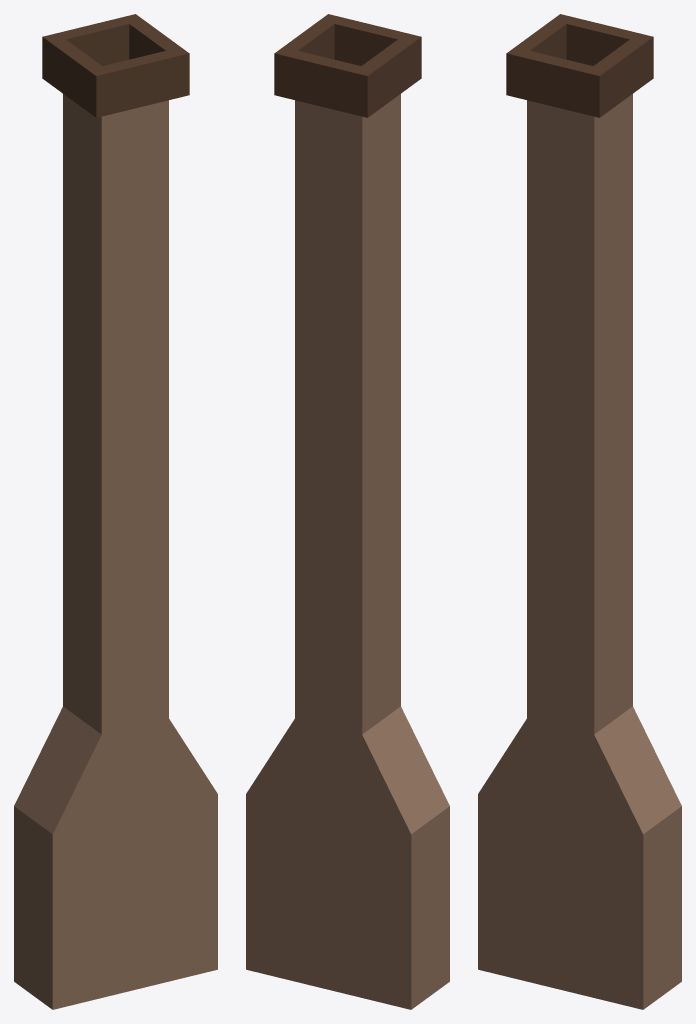
Rendered from Chimney3_C2.fbx.
3 views of the same model, side by side, from view 1: azimuth 30°, elevation 25°; view 2: azimuth 150°, elevation 25°; view 3: azimuth 330°, elevation 25° (orthographic).
Parts seen in each view (by area): view 1: Chimney3_C2; view 2: Chimney3_C2; view 3: Chimney3_C2.
Boxes of the visible parts, x1,y1,x2,y2 form: Chimney3_C2: [14, 14, 217, 1009]; Chimney3_C2: [246, 14, 449, 1009]; Chimney3_C2: [478, 14, 681, 1009].
Bounding box in the file's own units: 98.47 × 530 × 55.59.
